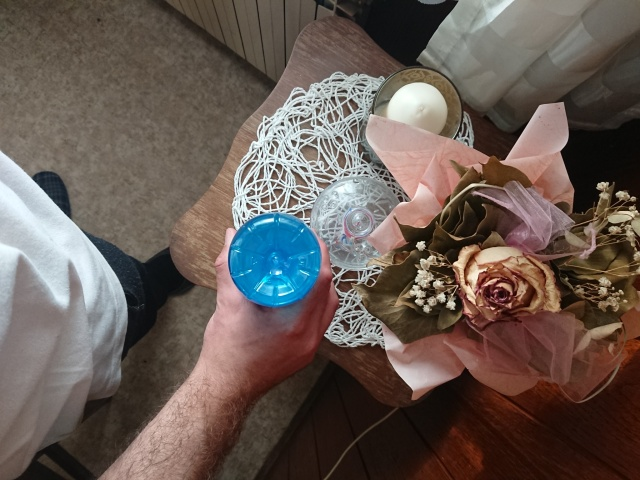Vindi Iso Sport Forest Strawberries 500mL: (226, 210, 324, 310)
